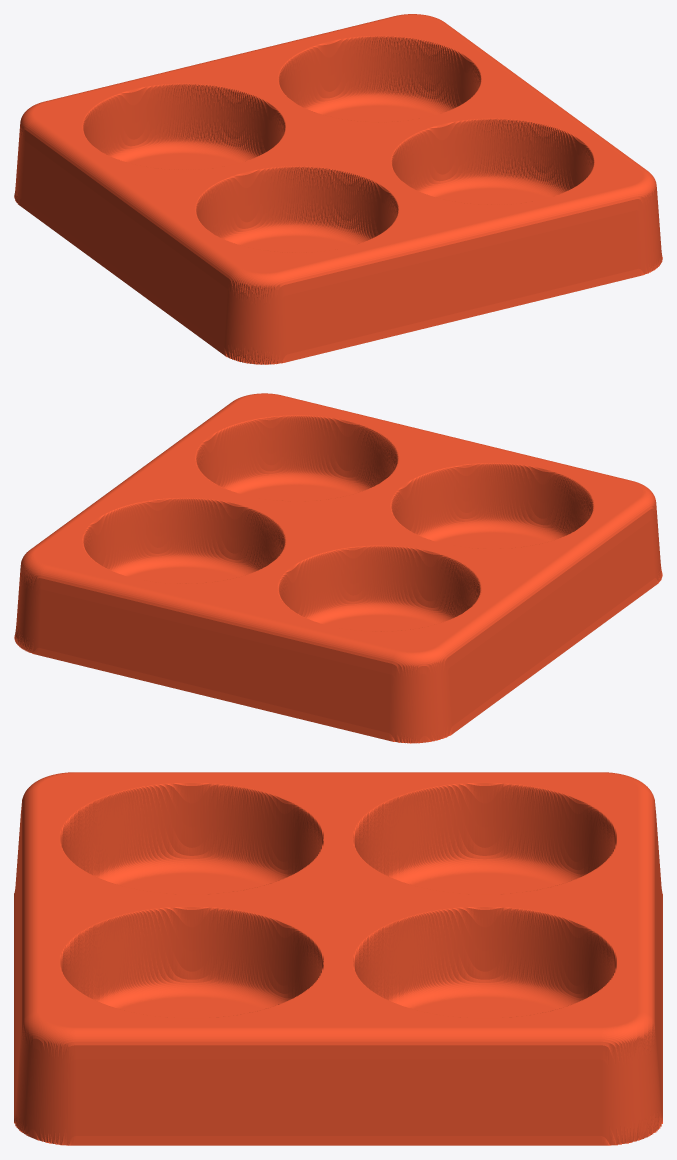
Rendered from mold.glb.
3 views of the same model, one above another, from view 1: azimuth 30°, elevation 25°; view 2: azimuth 150°, elevation 25°; view 3: azimuth 270°, elevation 25° (orthographic). The views are drawn at different scales.
Parts seen in each view (by area): view 1: geometry_0; view 2: geometry_0; view 3: geometry_0.
Boxes of the visible parts, x1,y1,x2,y2 form: geometry_0: (14, 14, 662, 364); geometry_0: (14, 393, 662, 743); geometry_0: (14, 772, 662, 1145).
Size of the model in its own units: 0.0952 by 0.0175 by 0.0952.
